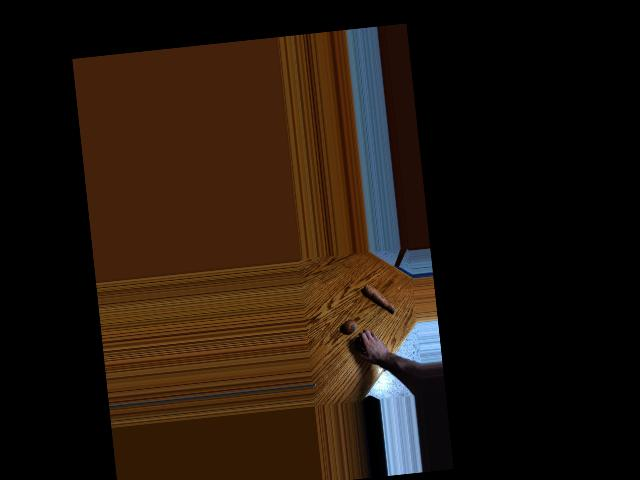onion: (354, 335, 370, 351)
